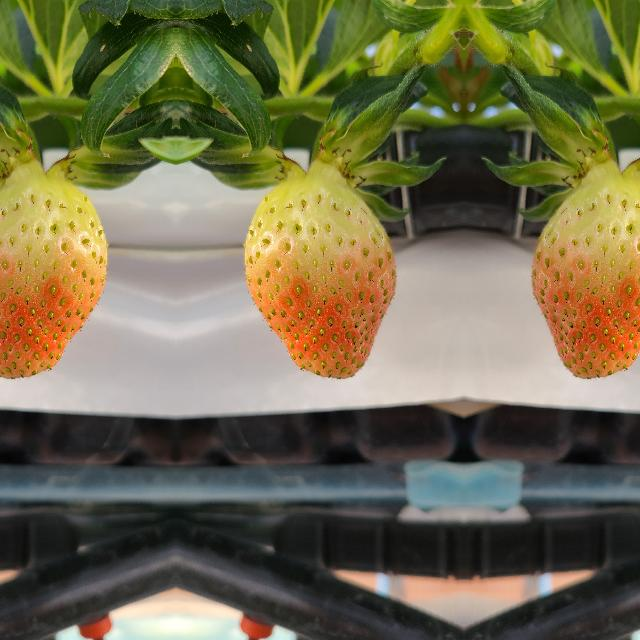Health_50: (243, 179, 397, 379), (529, 179, 640, 379), (0, 179, 107, 379)
